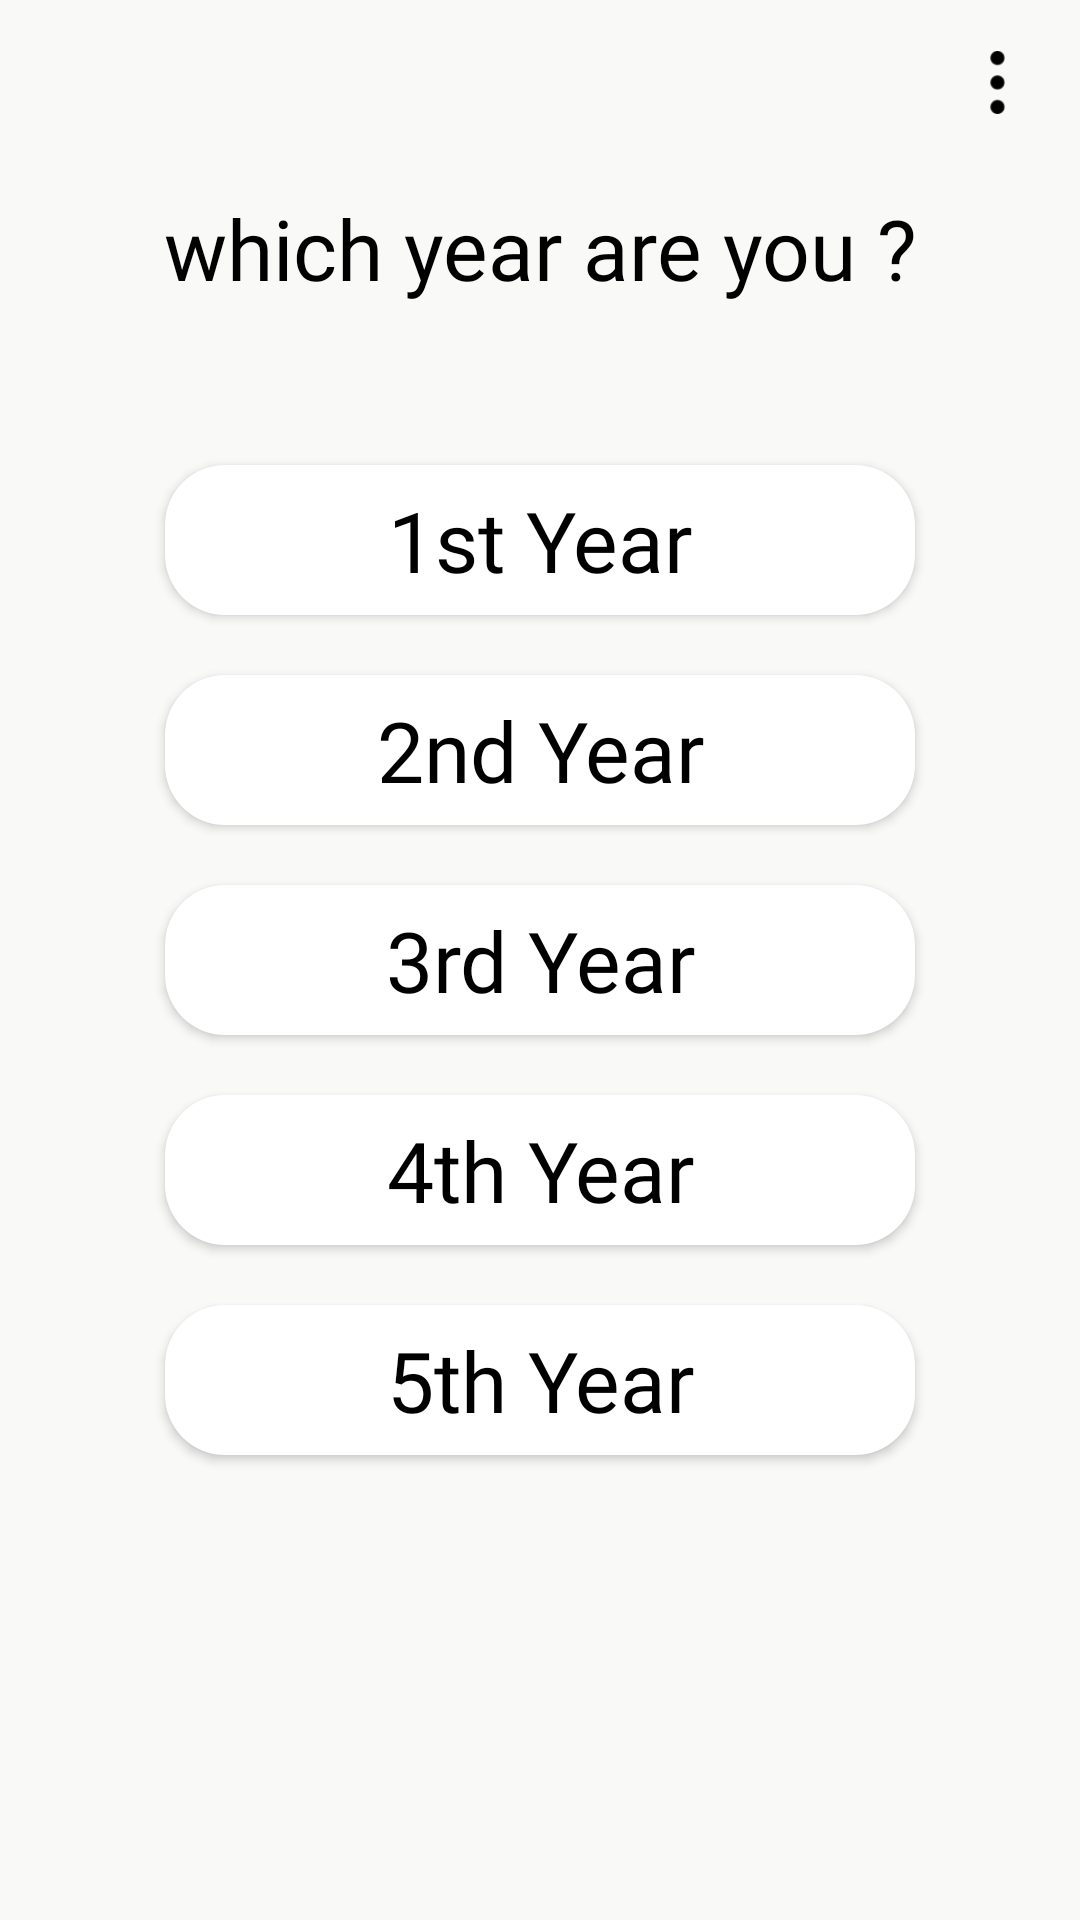

Screen size 1080×1920. Icon name, then its box in pixels as bbox=[x1, y1, x2, y2]:
more: bbox=[990, 51, 1005, 114]
